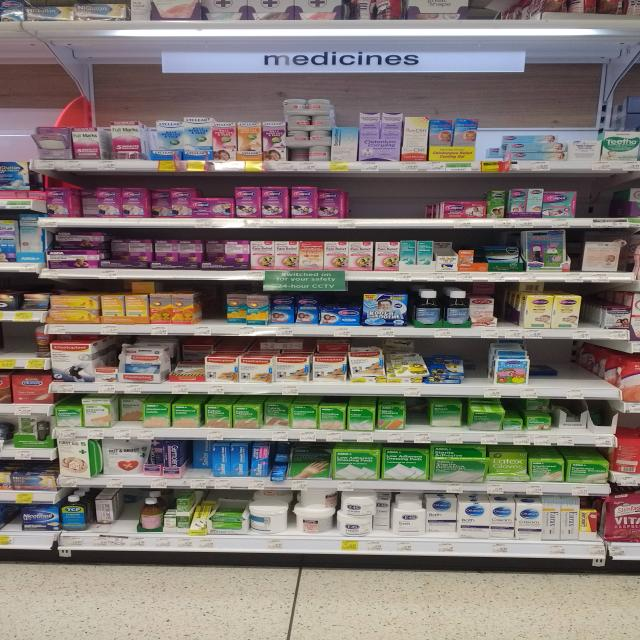empty: (349, 175, 442, 230), (570, 175, 630, 221), (551, 342, 602, 390), (1, 316, 42, 359), (112, 489, 140, 537), (201, 282, 231, 325), (461, 342, 489, 388)
